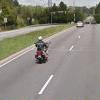Motorcycle: (31, 33, 50, 66)
